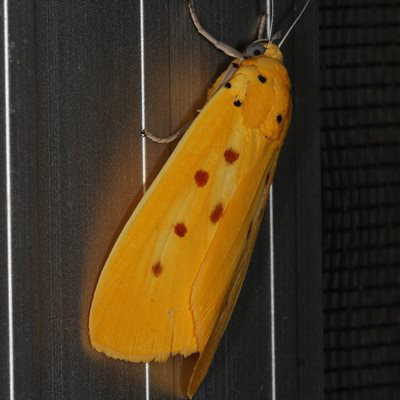Agape chloropyga: (86, 1, 315, 367)
moth: (87, 1, 316, 367)
